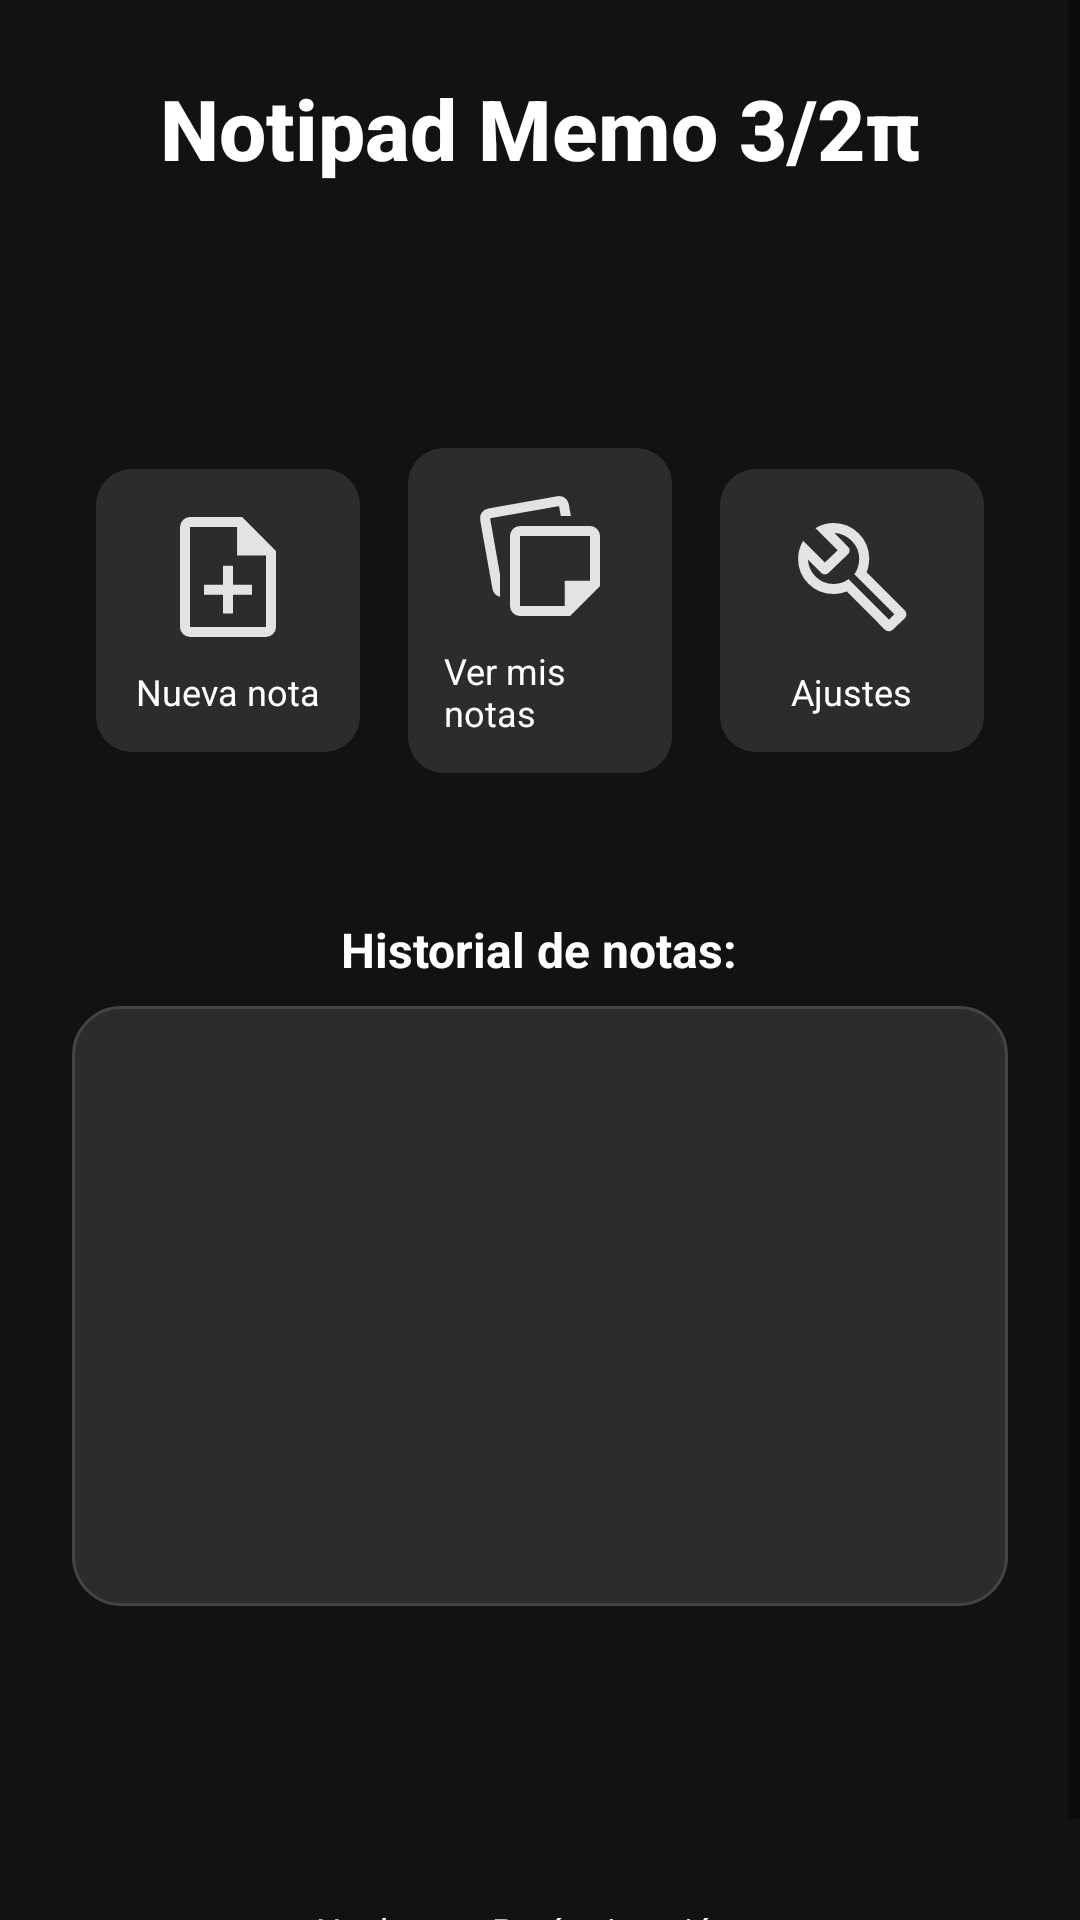

Screen size 1080×1920. Icon name, then its center in pixels as [x,y]:
opciones: [852,577]
vernotas: [540,556]
